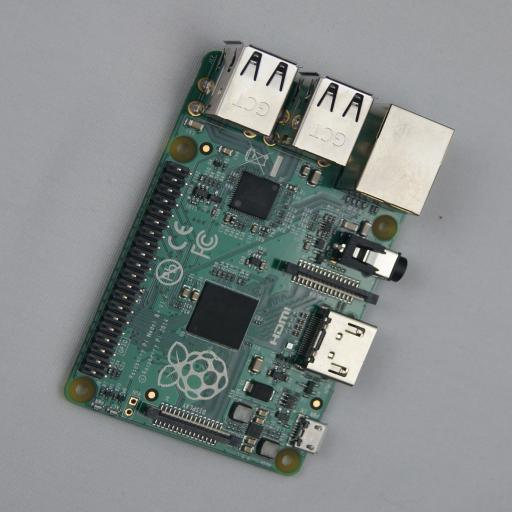Raspberry Pi 1 B-: (61, 41, 454, 476)
